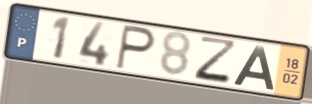1: (48, 15, 73, 61)
4: (76, 19, 113, 68)
8: (157, 31, 196, 80)
A: (230, 44, 277, 91)
P: (113, 23, 157, 73)
Z: (192, 34, 240, 87)
